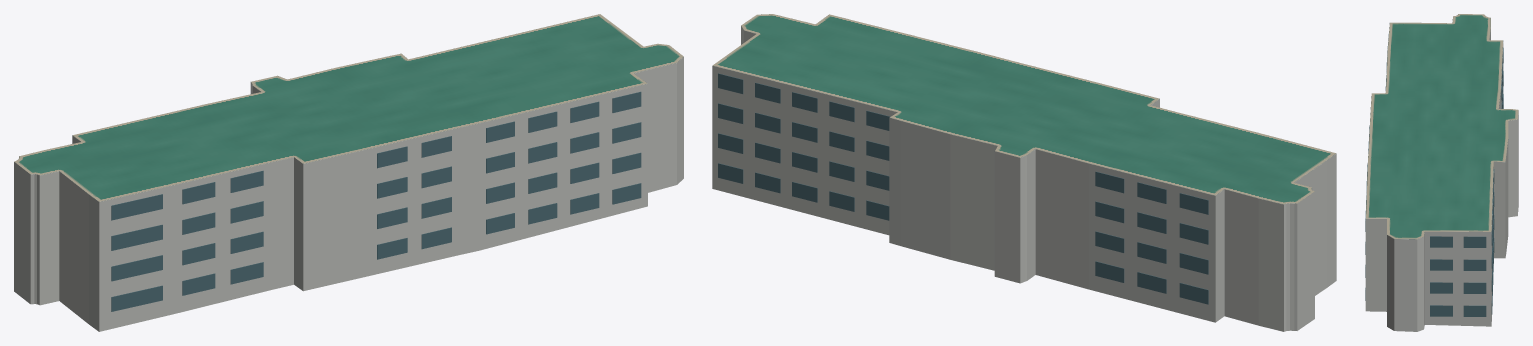
File: intact.glb
3 views of the same model, side by side, from view 1: azimuth 30°, elevation 25°; view 2: azimuth 150°, elevation 25°; view 3: azimuth 270°, elevation 25° (orthographic). The views are drawn at different scales.
Parts seen in each view (by area): view 1: SM_dorm-c_Intact_00, SM_dorm-c_Intact_01; view 2: SM_dorm-c_Intact_00, SM_dorm-c_Intact_01; view 3: SM_dorm-c_Intact_00, SM_dorm-c_Intact_01.
Part boxes in pixels (x1,y1,x2,y2): SM_dorm-c_Intact_00: (14, 14, 683, 331); SM_dorm-c_Intact_01: (111, 91, 641, 311); SM_dorm-c_Intact_00: (712, 14, 1336, 331); SM_dorm-c_Intact_01: (718, 73, 1208, 304); SM_dorm-c_Intact_00: (1365, 14, 1518, 331); SM_dorm-c_Intact_01: (1365, 34, 1503, 316).
Bounding box in the file's own units: 2.2 × 0.4467 × 0.6322.
Materials: 4 (1 with a texture image).
